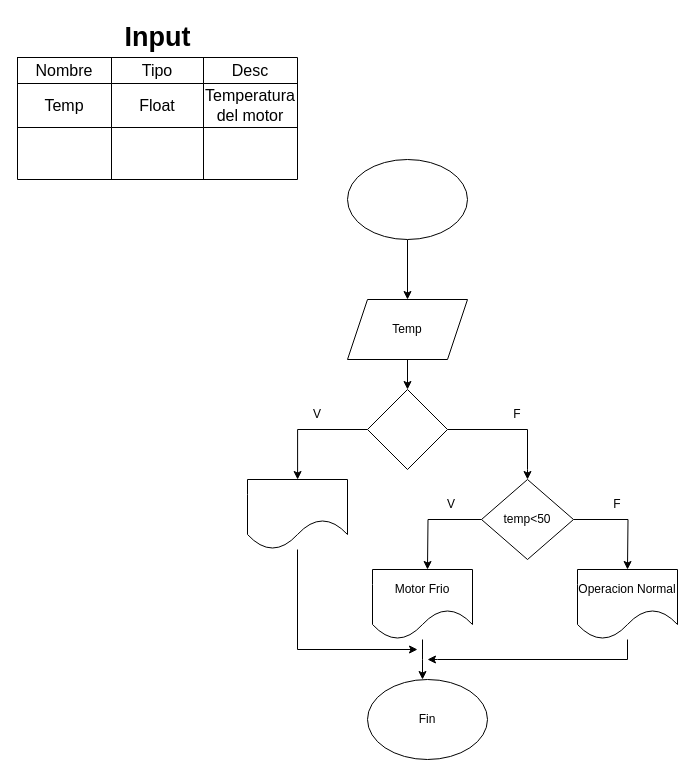
This 695x777 diagram has some shape labels left out. The centre of each missing label's shape, as x and y in pixels:
!Peligro¡: the point at 297,514
Inicio: the point at 407,199
temp>200: the point at 407,429
